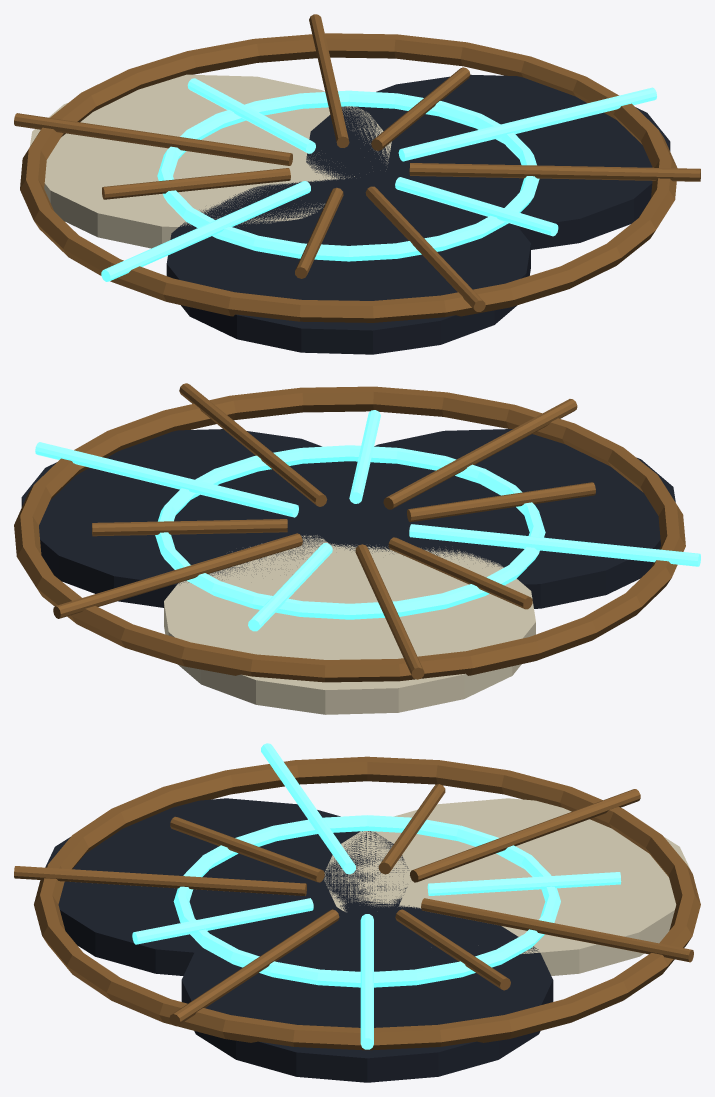
File: runtime.glb
The picture shows the model from 3 angles, top to bottom: view 1: azimuth 30°, elevation 25°; view 2: azimuth 150°, elevation 25°; view 3: azimuth 270°, elevation 25°; orthographic projection. The views are drawn at different scales.
Parts seen in each view (by area): view 1: aetherion-astronomical-medallion-v10_lobe_2_nocol, aetherion-astronomical-medallion-v10_outer_meridian_nocol, aetherion-astronomical-medallion-v10_lobe_0_nocol, aetherion-astronomical-medallion-v10_lobe_1_nocol, aetherion-astronomical-medallion-v10_inner_meridian_nocol, aetherion-astronomical-medallion-v10_bearing_10_nocol, aetherion-astronomical-medallion-v10_bearing_04_nocol, aetherion-astronomical-medallion-v10_bearing_00_nocol, aetherion-astronomical-medallion-v10_bearing_06_nocol, aetherion-astronomical-medallion-v10_bearing_05_nocol, aetherion-astronomical-medallion-v10_bearing_09_nocol, aetherion-astronomical-medallion-v10_bearing_08_nocol (+4 smaller); view 2: aetherion-astronomical-medallion-v10_outer_meridian_nocol, aetherion-astronomical-medallion-v10_lobe_1_nocol, aetherion-astronomical-medallion-v10_lobe_2_nocol, aetherion-astronomical-medallion-v10_lobe_0_nocol, aetherion-astronomical-medallion-v10_inner_meridian_nocol, aetherion-astronomical-medallion-v10_bearing_06_nocol, aetherion-astronomical-medallion-v10_bearing_00_nocol, aetherion-astronomical-medallion-v10_bearing_02_nocol, aetherion-astronomical-medallion-v10_bearing_08_nocol, aetherion-astronomical-medallion-v10_bearing_01_nocol, aetherion-astronomical-medallion-v10_bearing_07_nocol, aetherion-astronomical-medallion-v10_bearing_10_nocol (+4 smaller); view 3: aetherion-astronomical-medallion-v10_lobe_0_nocol, aetherion-astronomical-medallion-v10_outer_meridian_nocol, aetherion-astronomical-medallion-v10_lobe_1_nocol, aetherion-astronomical-medallion-v10_lobe_2_nocol, aetherion-astronomical-medallion-v10_inner_meridian_nocol, aetherion-astronomical-medallion-v10_bearing_08_nocol, aetherion-astronomical-medallion-v10_bearing_02_nocol, aetherion-astronomical-medallion-v10_bearing_04_nocol, aetherion-astronomical-medallion-v10_bearing_10_nocol, aetherion-astronomical-medallion-v10_bearing_03_nocol, aetherion-astronomical-medallion-v10_bearing_09_nocol, aetherion-astronomical-medallion-v10_bearing_07_nocol (+4 smaller).
Boxes of the visible parts, x1,y1,x2,y2 form: aetherion-astronomical-medallion-v10_lobe_2_nocol: [166, 177, 530, 354]; aetherion-astronomical-medallion-v10_outer_meridian_nocol: [20, 33, 677, 322]; aetherion-astronomical-medallion-v10_lobe_0_nocol: [306, 74, 670, 249]; aetherion-astronomical-medallion-v10_lobe_1_nocol: [30, 74, 391, 248]; aetherion-astronomical-medallion-v10_inner_meridian_nocol: [157, 90, 539, 261]; aetherion-astronomical-medallion-v10_bearing_10_nocol: [409, 163, 700, 181]; aetherion-astronomical-medallion-v10_bearing_04_nocol: [14, 113, 292, 165]; aetherion-astronomical-medallion-v10_bearing_00_nocol: [398, 87, 656, 161]; aetherion-astronomical-medallion-v10_bearing_06_nocol: [101, 181, 310, 281]; aetherion-astronomical-medallion-v10_bearing_05_nocol: [102, 168, 290, 199]; aetherion-astronomical-medallion-v10_bearing_09_nocol: [395, 177, 558, 236]; aetherion-astronomical-medallion-v10_bearing_08_nocol: [365, 186, 485, 311]; aetherion-astronomical-medallion-v10_outer_meridian_nocol: [14, 386, 685, 682]; aetherion-astronomical-medallion-v10_lobe_1_nocol: [164, 535, 535, 714]; aetherion-astronomical-medallion-v10_lobe_2_nocol: [306, 429, 675, 608]; aetherion-astronomical-medallion-v10_lobe_0_nocol: [21, 429, 393, 607]; aetherion-astronomical-medallion-v10_inner_meridian_nocol: [155, 445, 545, 619]; aetherion-astronomical-medallion-v10_bearing_06_nocol: [409, 524, 700, 566]; aetherion-astronomical-medallion-v10_bearing_00_nocol: [35, 442, 298, 517]; aetherion-astronomical-medallion-v10_bearing_02_nocol: [53, 533, 302, 618]; aetherion-astronomical-medallion-v10_bearing_08_nocol: [383, 399, 577, 509]; aetherion-astronomical-medallion-v10_bearing_01_nocol: [92, 519, 287, 536]; aetherion-astronomical-medallion-v10_bearing_07_nocol: [407, 482, 595, 522]; aetherion-astronomical-medallion-v10_bearing_10_nocol: [179, 383, 327, 506]; aetherion-astronomical-medallion-v10_lobe_0_nocol: [181, 901, 553, 1082]; aetherion-astronomical-medallion-v10_outer_meridian_nocol: [34, 756, 700, 1050]; aetherion-astronomical-medallion-v10_lobe_1_nocol: [324, 798, 693, 975]; aetherion-astronomical-medallion-v10_lobe_2_nocol: [45, 798, 409, 975]; aetherion-astronomical-medallion-v10_inner_meridian_nocol: [173, 815, 560, 987]; aetherion-astronomical-medallion-v10_bearing_08_nocol: [14, 866, 306, 895]; aetherion-astronomical-medallion-v10_bearing_02_nocol: [421, 898, 693, 962]; aetherion-astronomical-medallion-v10_bearing_04_nocol: [410, 789, 640, 882]; aetherion-astronomical-medallion-v10_bearing_10_nocol: [169, 909, 339, 1026]; aetherion-astronomical-medallion-v10_bearing_03_nocol: [427, 872, 621, 895]; aetherion-astronomical-medallion-v10_bearing_09_nocol: [132, 898, 313, 944]; aetherion-astronomical-medallion-v10_bearing_07_nocol: [170, 816, 324, 882].
Bounding box in the file's own units: 7.94 × 0.601 × 7.8.
